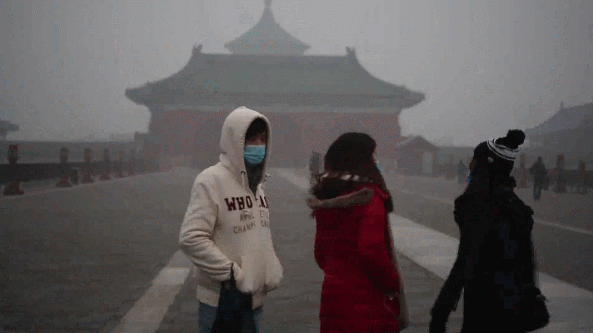person: (428, 128, 551, 332), (178, 105, 283, 332), (304, 131, 410, 333), (528, 155, 548, 201), (307, 149, 322, 185), (575, 159, 588, 194), (454, 157, 467, 183), (553, 175, 568, 194)
